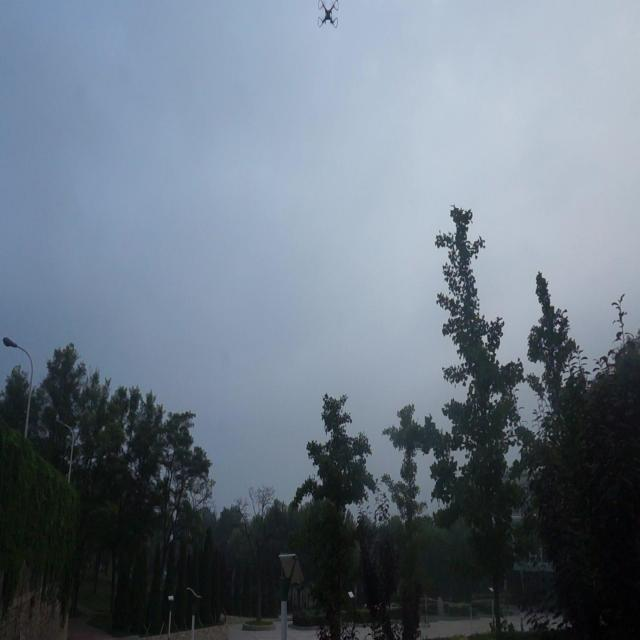UAV: (317, 0, 338, 28)
